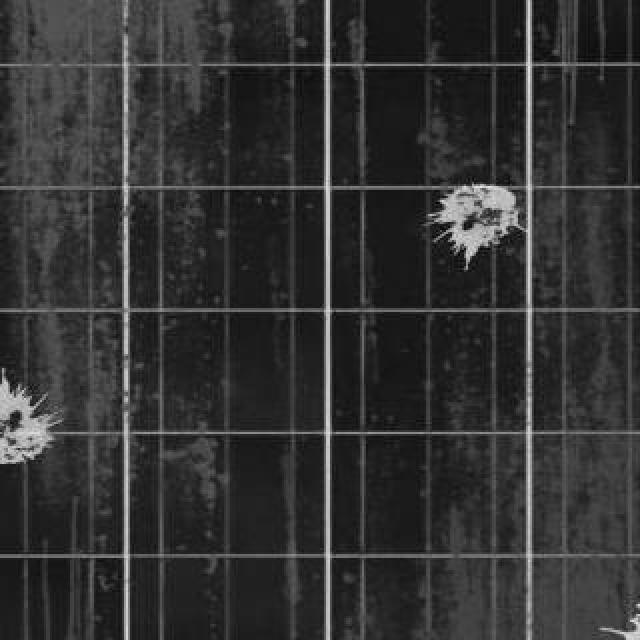Bird-drop: (416, 164, 534, 299), (0, 336, 64, 486), (600, 550, 640, 640)
